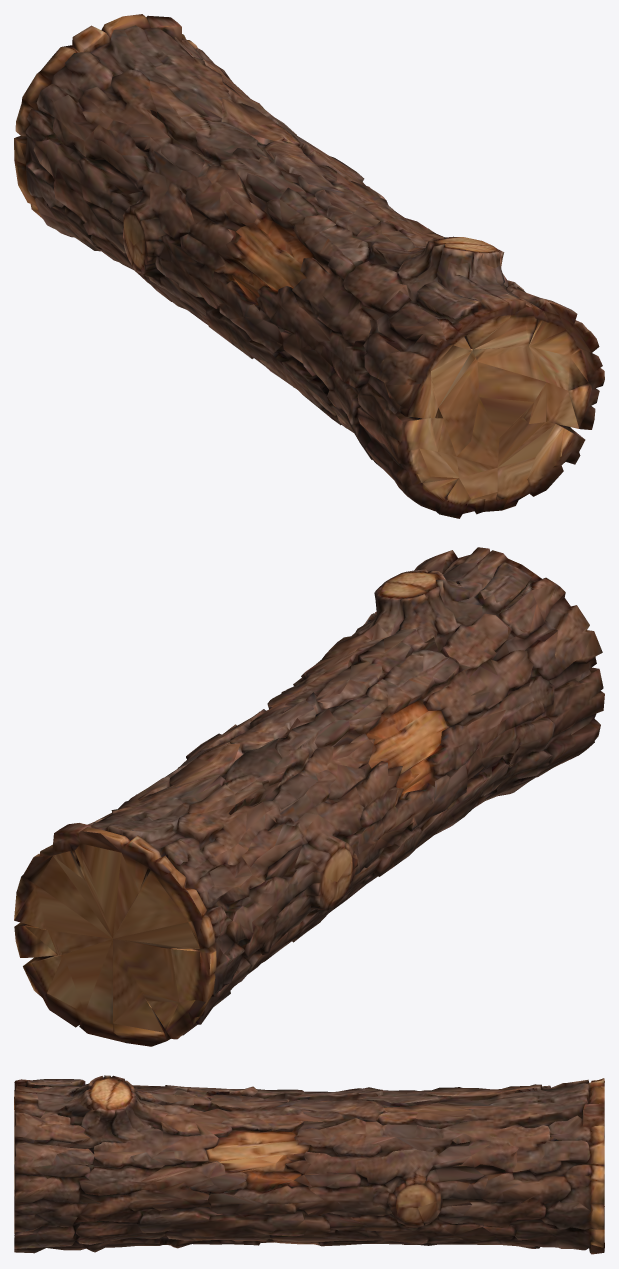
Rendered from log-01.glb.
3 renders of one model, top to bottom at view 1: azimuth 30°, elevation 25°; view 2: azimuth 150°, elevation 25°; view 3: azimuth 270°, elevation 25°, orthographic. The views are drawn at different scales.
Parts seen in each view (by area): view 1: nebeljagd-tripo-log-01; view 2: nebeljagd-tripo-log-01; view 3: nebeljagd-tripo-log-01.
Boxes of the visible parts, x1,y1,x2,y2 form: nebeljagd-tripo-log-01: (14, 14, 604, 518); nebeljagd-tripo-log-01: (14, 547, 604, 1046); nebeljagd-tripo-log-01: (14, 1075, 604, 1254).
Size of the model in its own units: 0.9878 by 1 by 3.19.
Materials: 1 (1 with a texture image).
